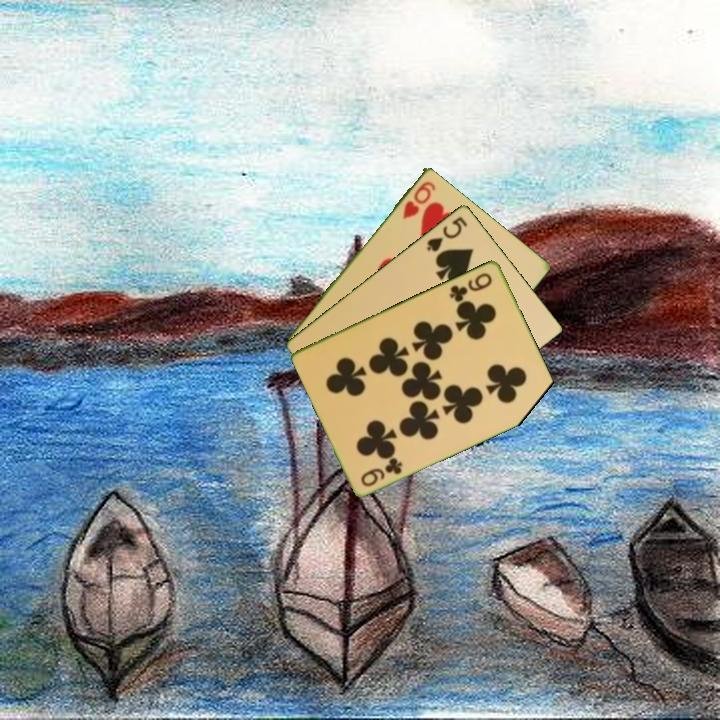5s: (423, 213, 470, 254)
6h: (399, 177, 439, 222)
9c: (357, 453, 406, 489), (446, 269, 495, 304)
